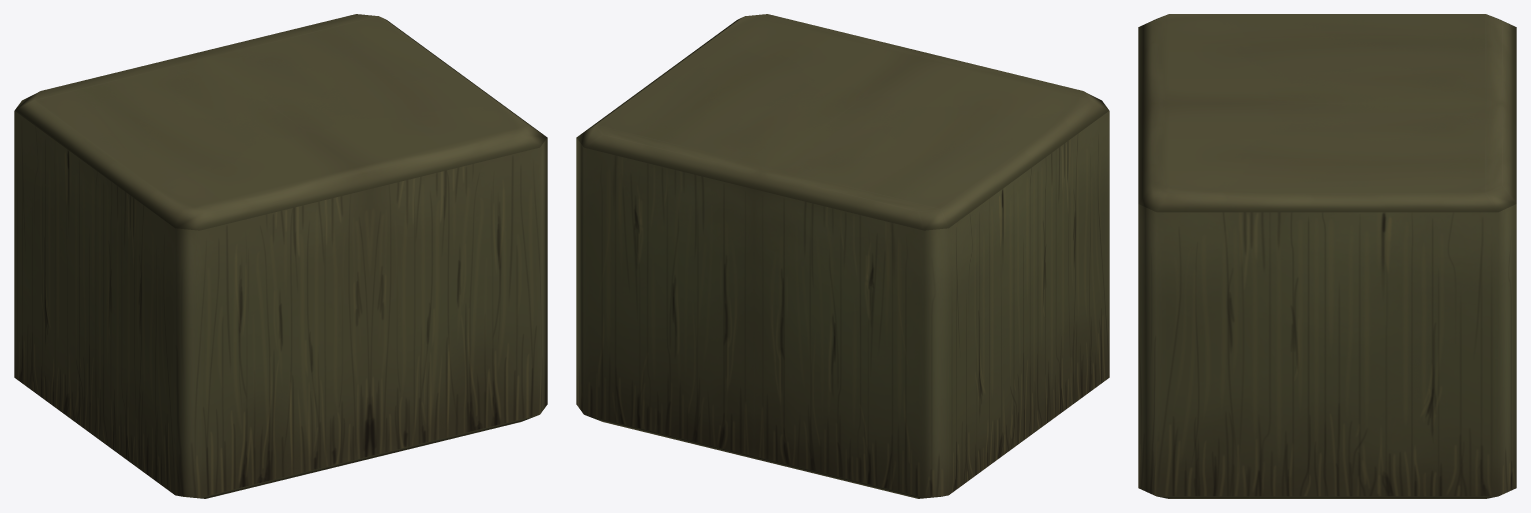
Rendered from Box_Other.fbx.
The picture shows the model from 3 angles, left to right: view 1: azimuth 30°, elevation 25°; view 2: azimuth 150°, elevation 25°; view 3: azimuth 270°, elevation 25°; orthographic projection. The views are drawn at different scales.
Parts seen in each view (by area): view 1: LargeBox2; view 2: LargeBox2; view 3: LargeBox2.
Part boxes in pixels (box(x1,y1,x2,y2)): LargeBox2: box(14, 14, 547, 498); LargeBox2: box(576, 14, 1109, 498); LargeBox2: box(1138, 14, 1516, 498).
Bounding box in the file's own units: 92.38 × 68.12 × 76.43.
